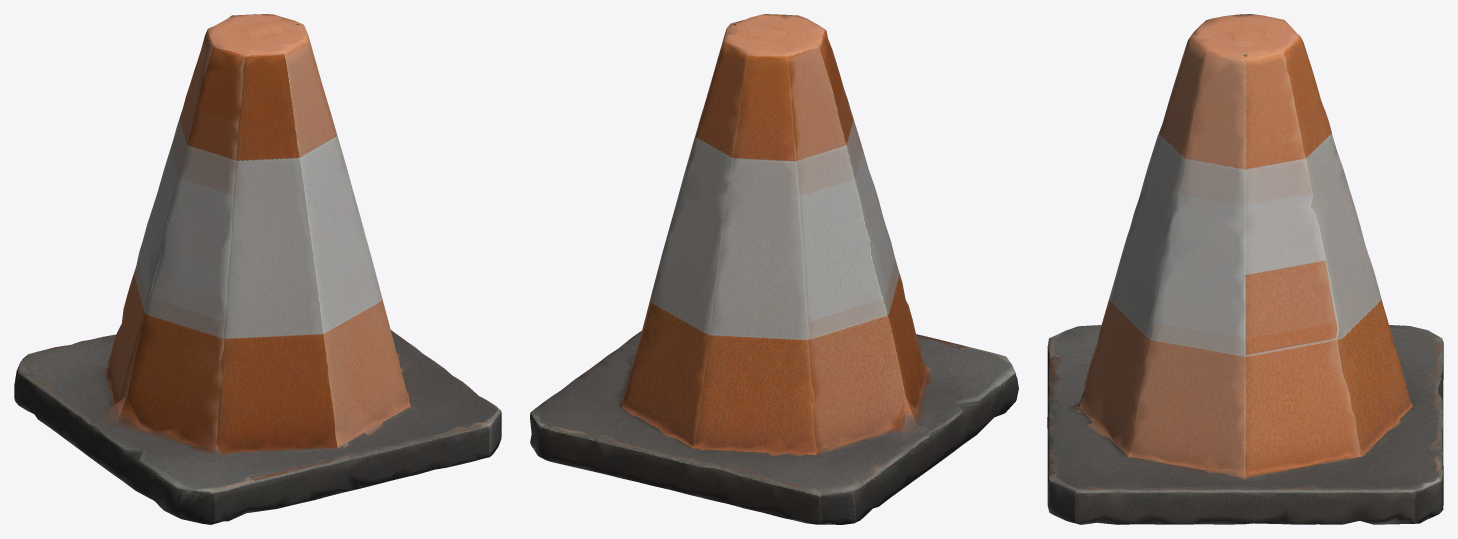
Rendered from Prop_Cone.fbx.
3 renders of one model, left to right at view 1: azimuth 30°, elevation 25°; view 2: azimuth 150°, elevation 25°; view 3: azimuth 270°, elevation 25°, orthographic. The views are drawn at different scales.
Visible parts, largest first — view 1: texture_mapping; view 2: texture_mapping; view 3: texture_mapping.
Part boxes in pixels (bbox=[...]): texture_mapping: bbox=[14, 14, 501, 524]; texture_mapping: bbox=[530, 14, 1018, 524]; texture_mapping: bbox=[1047, 14, 1443, 524].
Size of the model in its own units: 87.1 by 99.96 by 87.64.
Materials: 1 (1 with a texture image).
